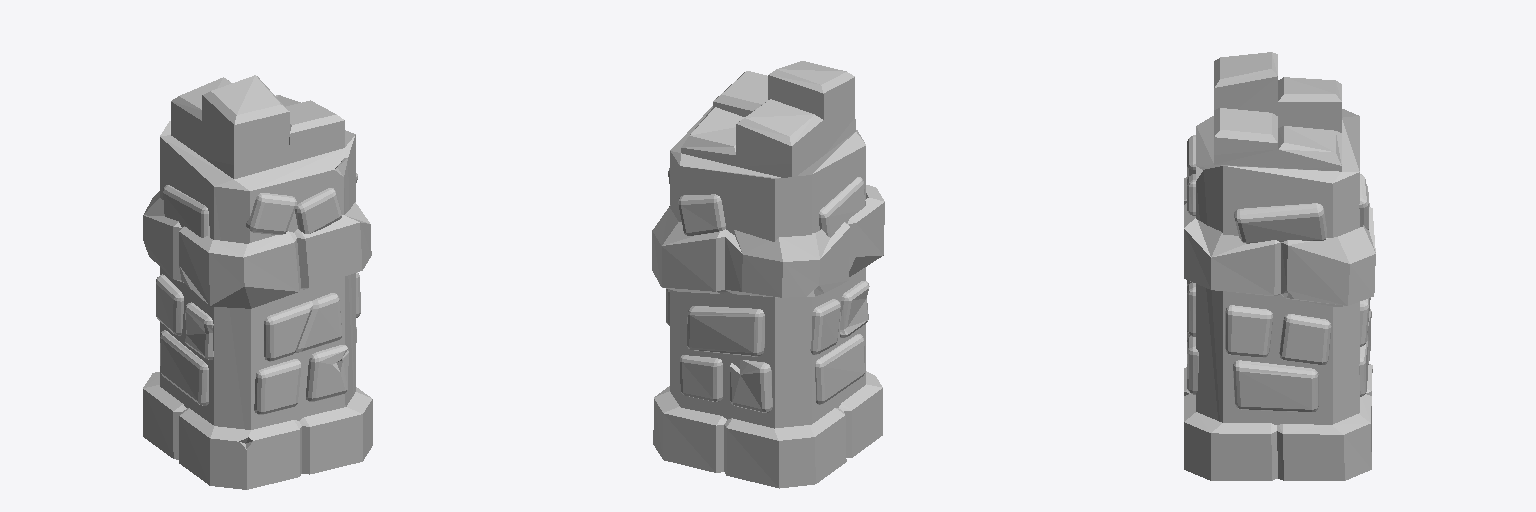
Rendered from pillar_broken.obj.
3 views of the same model, side by side, from view 1: azimuth 30°, elevation 25°; view 2: azimuth 150°, elevation 25°; view 3: azimuth 270°, elevation 25° (orthographic).
Parts seen in each view (by area): view 1: pillar_broken_Cube.4003; view 2: pillar_broken_Cube.4003; view 3: pillar_broken_Cube.4003.
Boxes of the visible parts, <box> form: pillar_broken_Cube.4003: <box>143,75,372,489</box>; pillar_broken_Cube.4003: <box>652,61,884,488</box>; pillar_broken_Cube.4003: <box>1184,52,1375,480</box>.
Bounding box in the file's own units: 1.64 × 3.5 × 1.65.